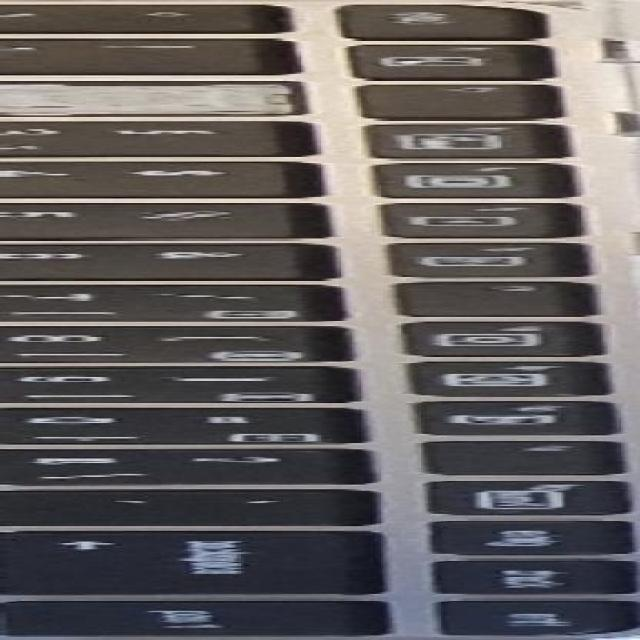Keyboard problems: (3, 82, 303, 115)
